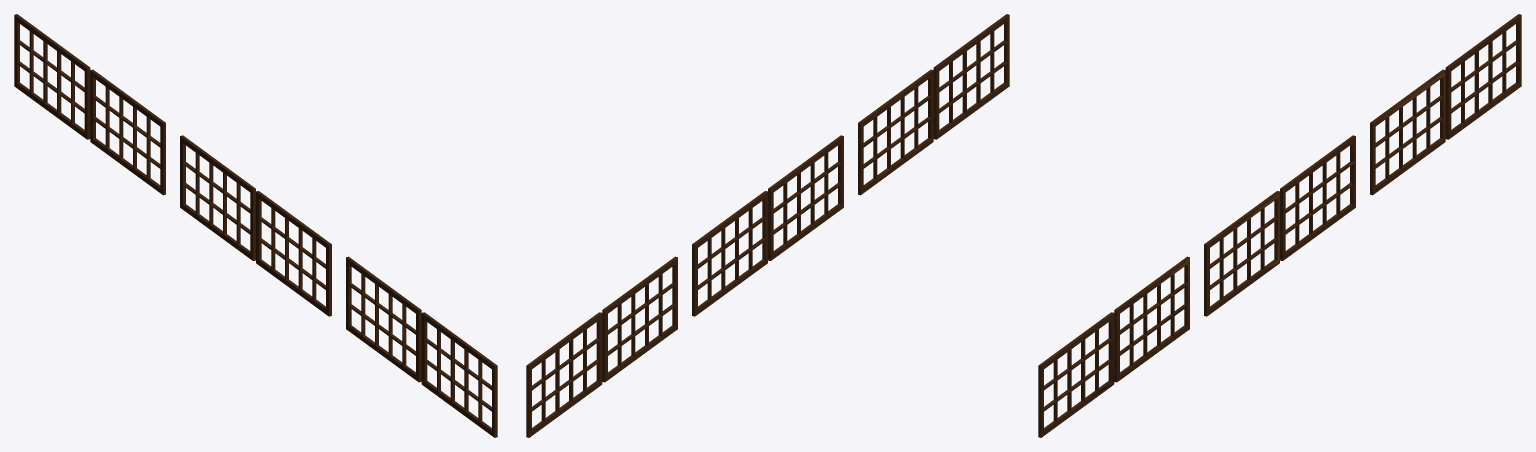
File: MSH_C_Wall_West_panels_B.glb
The picture shows the model from 3 angles, left to right: view 1: azimuth 30°, elevation 25°; view 2: azimuth 150°, elevation 25°; view 3: azimuth 330°, elevation 25°; orthographic projection.
Parts seen in each view (by area): view 1: MSH_C_Wall_West_panels_B; view 2: MSH_C_Wall_West_panels_B; view 3: MSH_C_Wall_West_panels_B.
Boxes of the visible parts, <box> form: MSH_C_Wall_West_panels_B: <box>14,14,497,437</box>; MSH_C_Wall_West_panels_B: <box>526,14,1009,437</box>; MSH_C_Wall_West_panels_B: <box>1038,14,1521,437</box>.
Size of the model in its own units: 0.03 by 0.7 by 8.5.
Materials: 1 (1 with a texture image).
